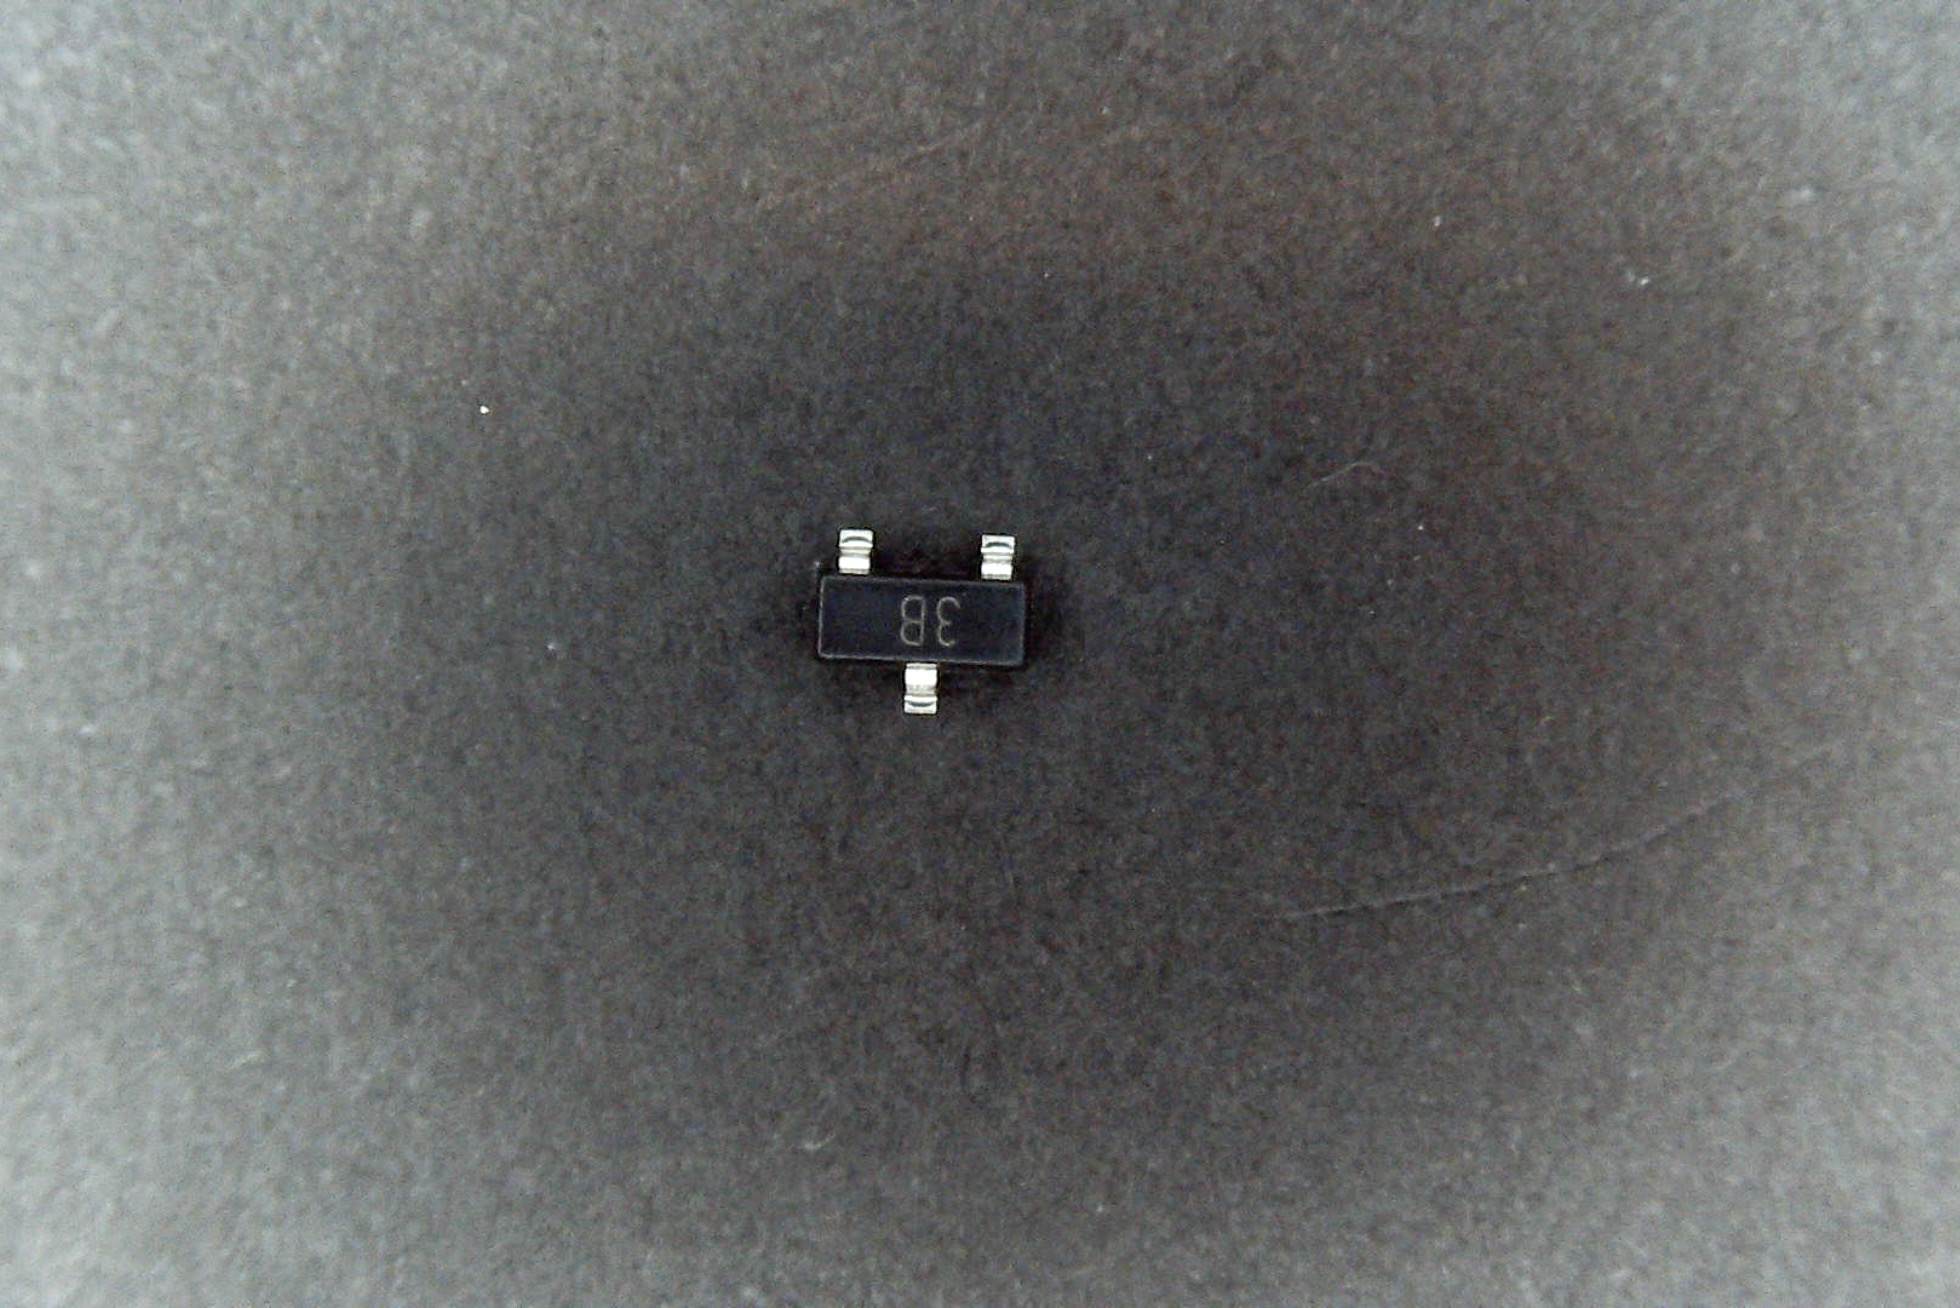bbox: (811, 527, 1033, 715)
